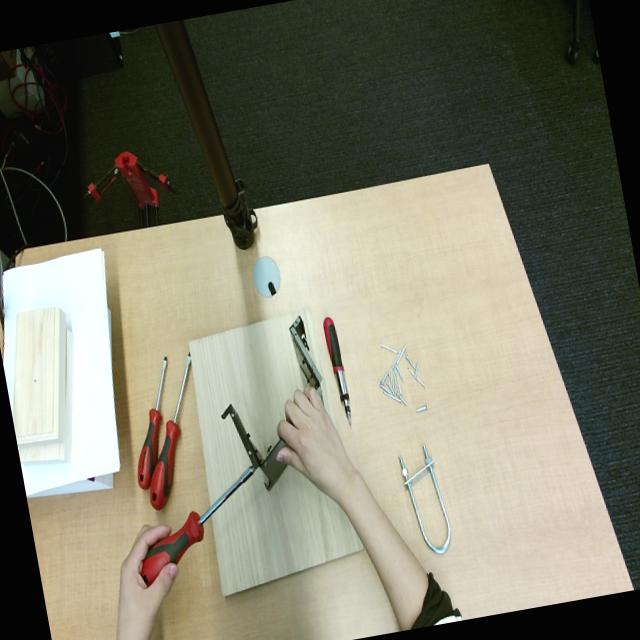screwdriver: (141, 465, 256, 585), (150, 354, 191, 509), (137, 356, 167, 489), (323, 316, 351, 423)
